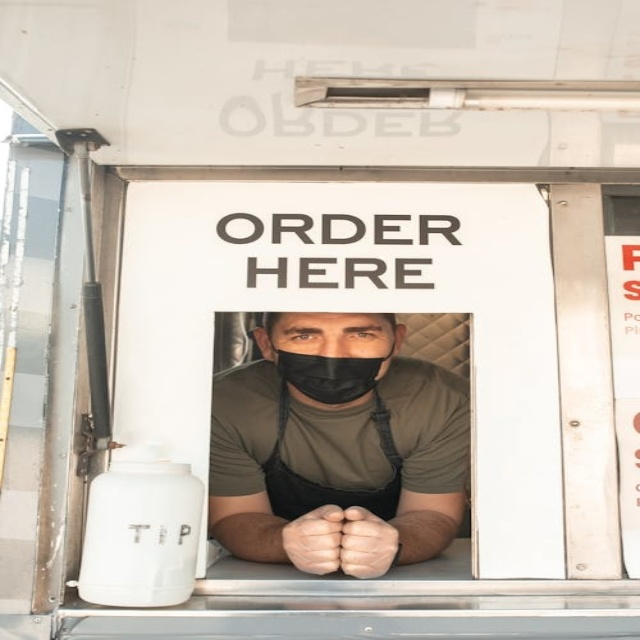Mascara: (271, 335, 394, 402)
Sin_gafas: (275, 319, 388, 343)
Sin_guantes: (337, 504, 401, 579), (282, 502, 346, 576)
